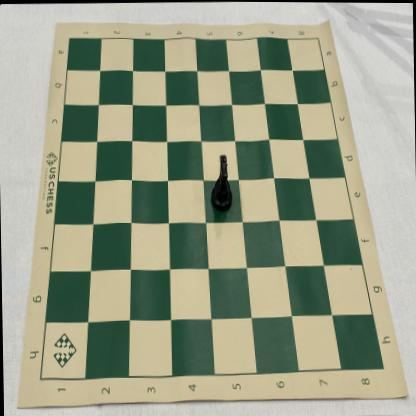black-knight: (209, 153, 232, 212)
